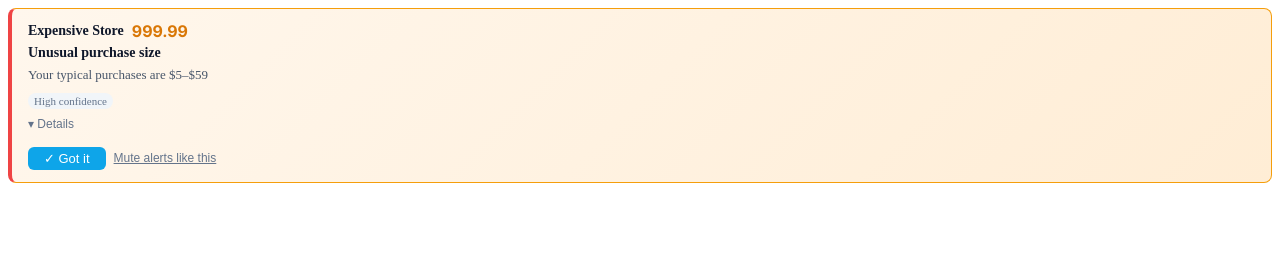
AnomalyAlertItem — Details panel › should show "No additional details available" when enriched fields are absent
What coordinates should you click on to do the following:
click the button with test id "anomaly-details-toggle"
I would click on:
 (51, 124)
Its box is top-left (28, 112), bottom-right (1255, 134).
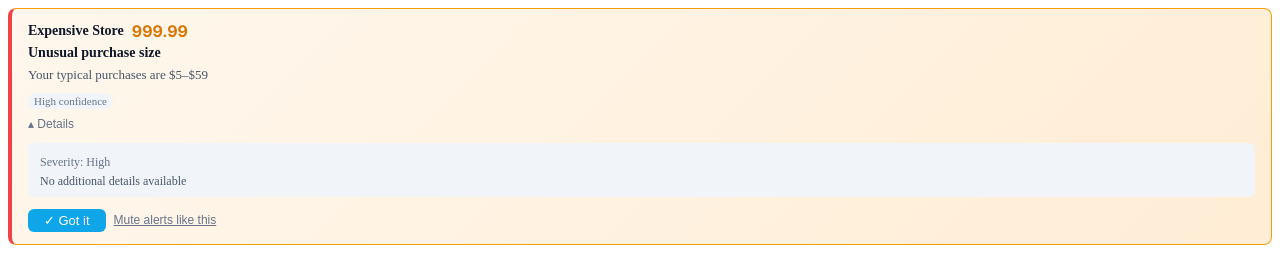
Now the text with test id "anomaly-detail-empty" reads "No additional details available", box top-left (40, 174), bottom-right (186, 188)
